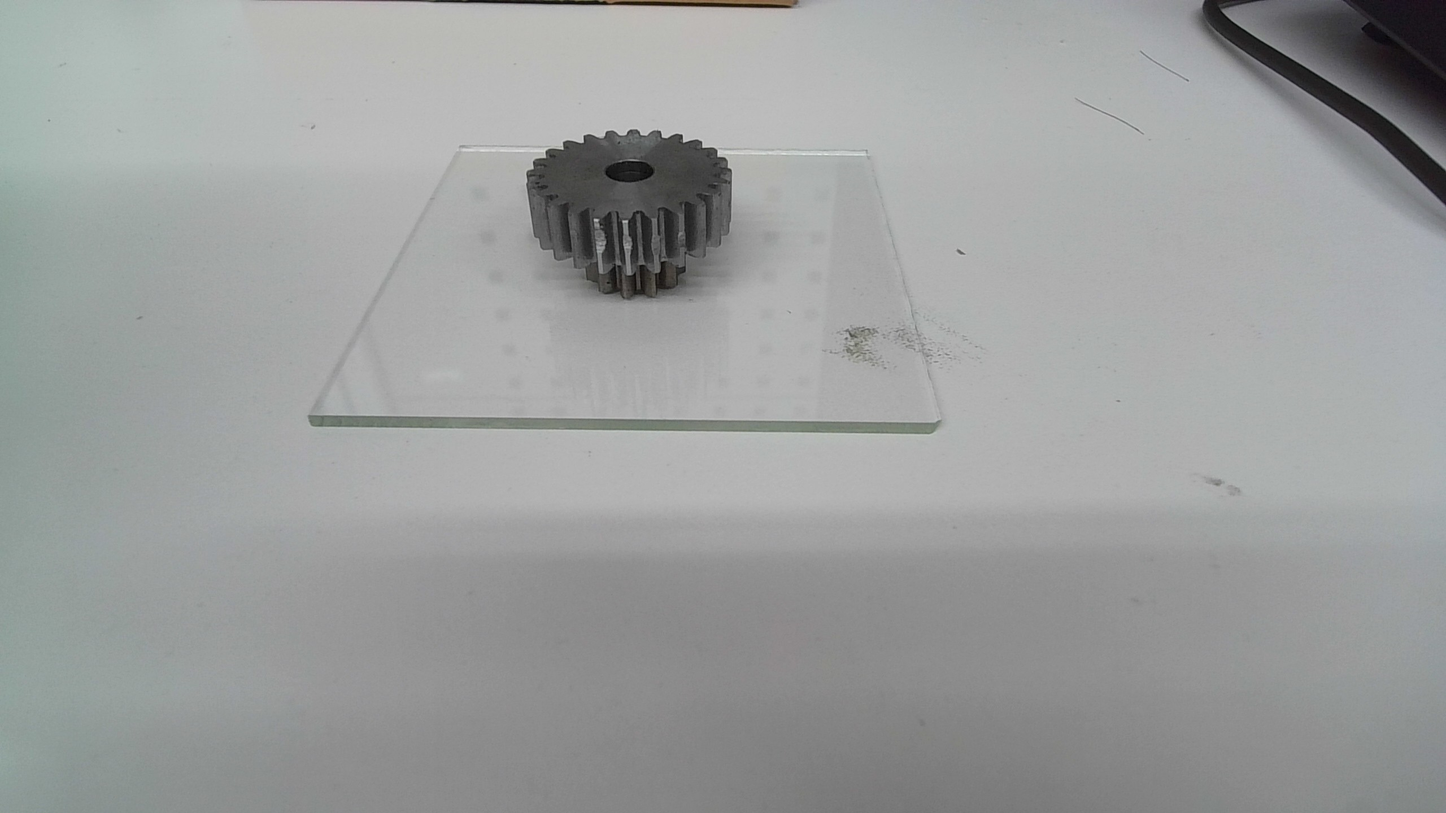gear: (522, 124, 738, 303)
